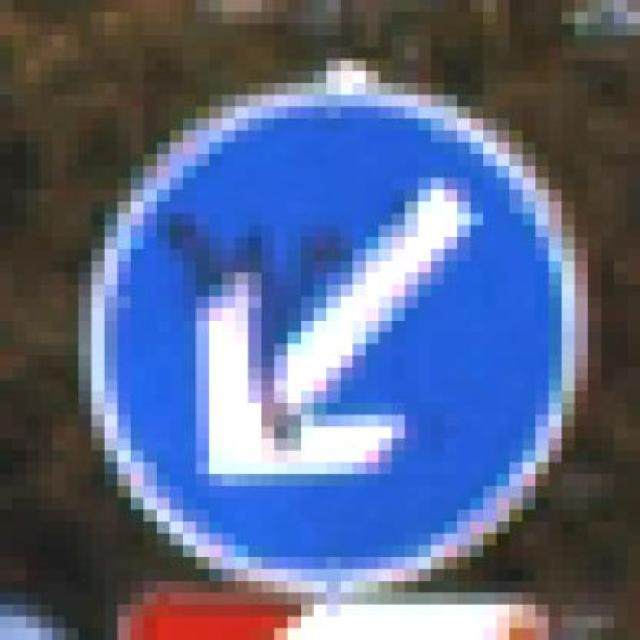Keep-Left: (39, 48, 588, 604)
